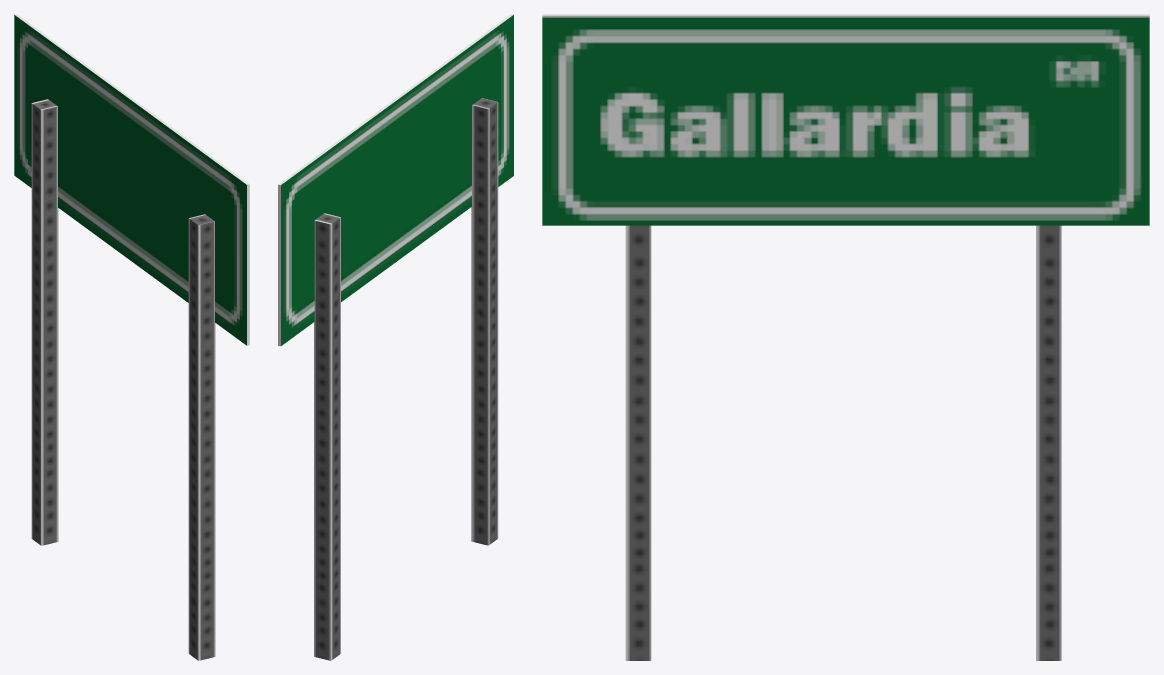
File: Road Sign.glb
3 renders of one model, left to right at view 1: azimuth 30°, elevation 25°; view 2: azimuth 150°, elevation 25°; view 3: azimuth 270°, elevation 25°, orthographic. The views are drawn at different scales.
Parts seen in each view (by area): view 1: Cube; view 2: Cube; view 3: Cube.
Boxes of the visible parts, x1,y1,x2,y2 form: Cube: (14, 14, 249, 660); Cube: (278, 14, 513, 660); Cube: (542, 14, 1149, 660).
Bounding box in the file's own units: 0.0725 × 1.79 × 1.52.
Materials: 1 (1 with a texture image).
